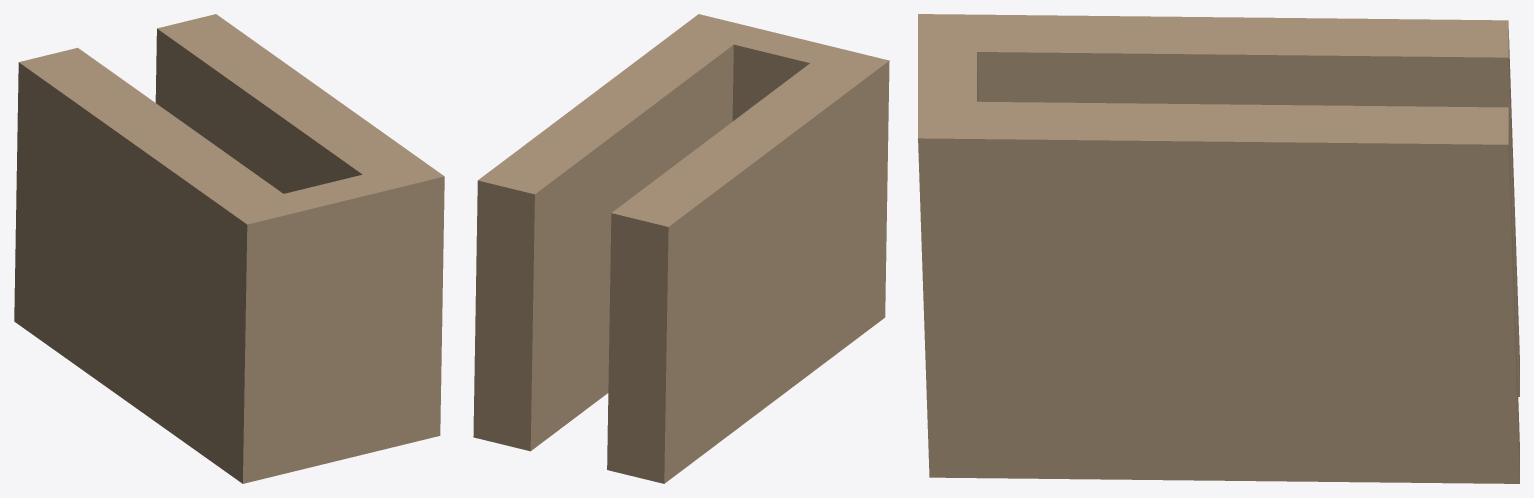
File: Spectacular Migelo.glb
3 renders of one model, left to right at view 1: azimuth 30°, elevation 25°; view 2: azimuth 150°, elevation 25°; view 3: azimuth 270°, elevation 25°, orthographic. The views are drawn at different scales.
Parts seen in each view (by area): view 1: Mesh_Mesh_head_geo.001_lambert2SG.001; view 2: Mesh_Mesh_head_geo.001_lambert2SG.001; view 3: Mesh_Mesh_head_geo.001_lambert2SG.001.
Boxes of the visible parts, <box> form: Mesh_Mesh_head_geo.001_lambert2SG.001: <box>14,14,444,483</box>; Mesh_Mesh_head_geo.001_lambert2SG.001: <box>473,14,889,483</box>; Mesh_Mesh_head_geo.001_lambert2SG.001: <box>918,14,1519,483</box>.
Bounding box in the file's own units: 6.95 × 9 × 14.21.
